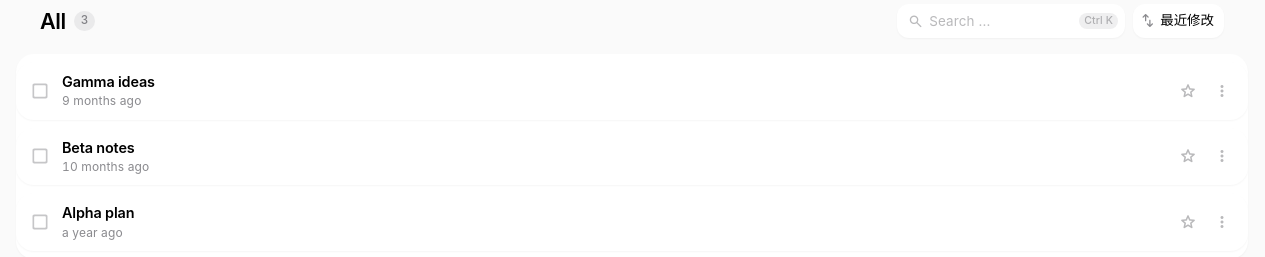
MapsList rows are memoized › narrow screen keeps search accessible and allows selecting cards for bulk actions
Expected: the text "Alpha plan" is shown, [62,204,134,221]
Expected: the field named "Search maps" is shown, [897,6,1125,36]
Click the checkbox named "Select Beta notes".
click(40, 156)  # box [30,146,50,166]
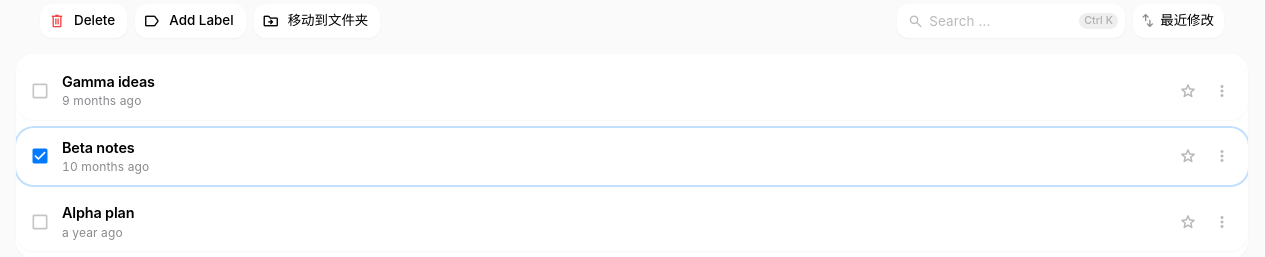
Now the checkbox named "Select Beta notes" is checked, box [30,146,50,166]
Now the button with aria-label "Delete selected" is shown, box [40,4,127,38]
